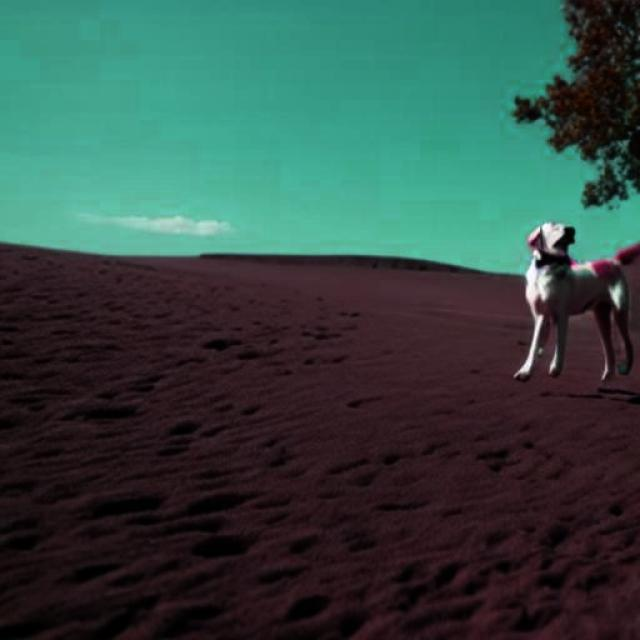Dog: (511, 220, 640, 382)
